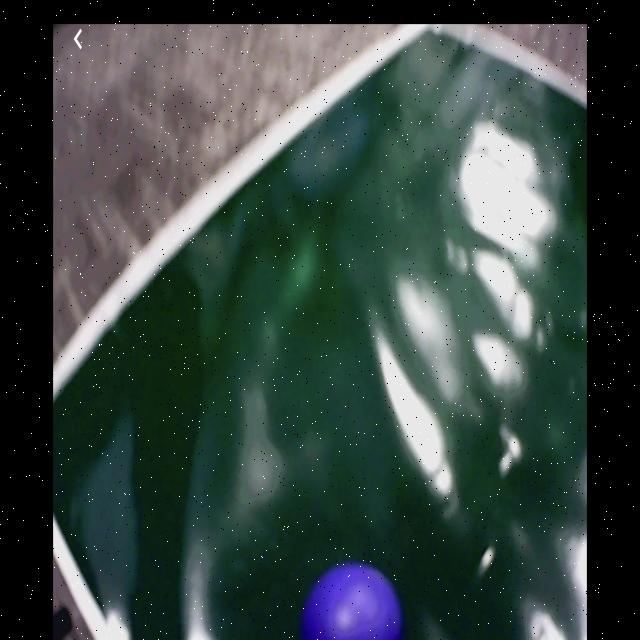ball: (304, 564, 403, 640)
